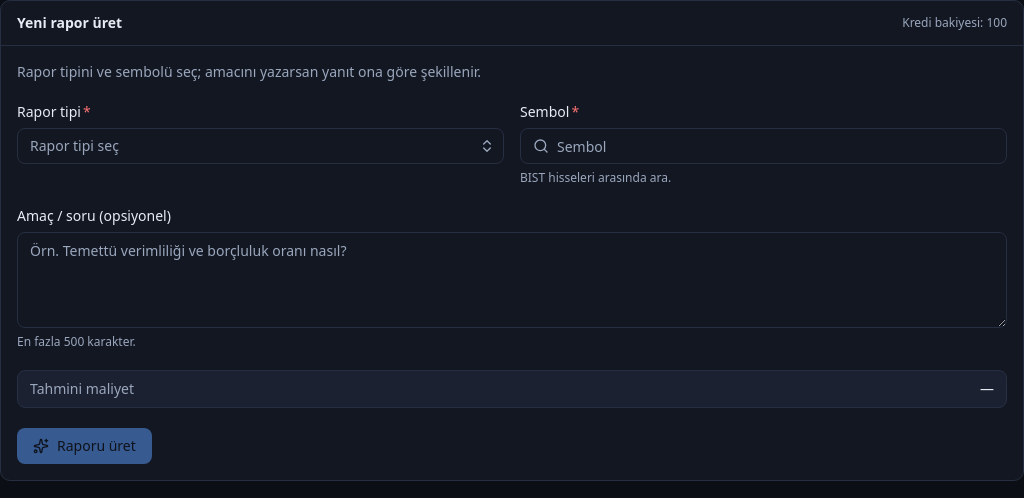
it: ReportWizard — maliyet ve kredi (U-03) › tip seçilince tahmini maliyeti gösterir
The width and height of the screenshot is (1024, 498).
Expected: the text with test id "estimated-cost" reads "—", [980,379,994,398]
Click the dropdown labelled "Rapor tipi" at coordinates (74, 146), box [17,128,504,164]
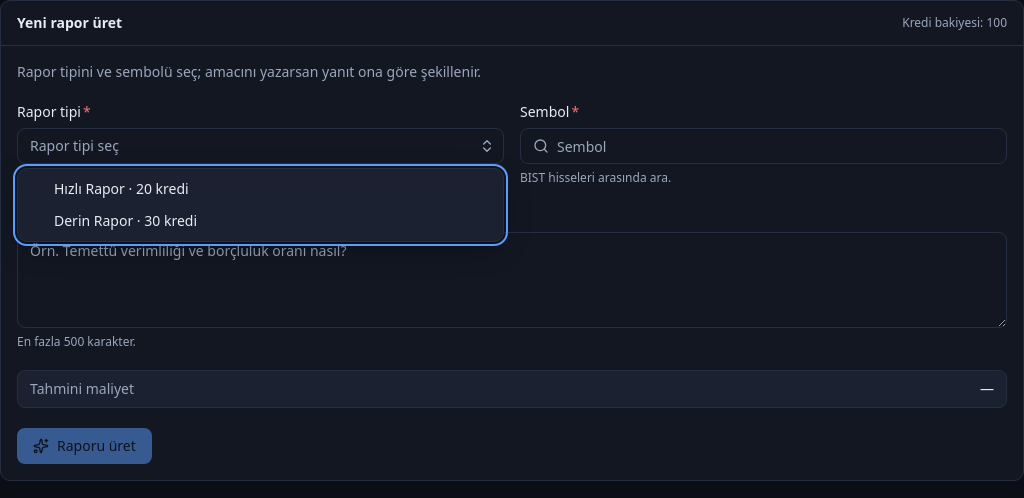
Click the option "Derin Rapor · 30 kredi" at coordinates (126, 220), box [54,211,197,230]
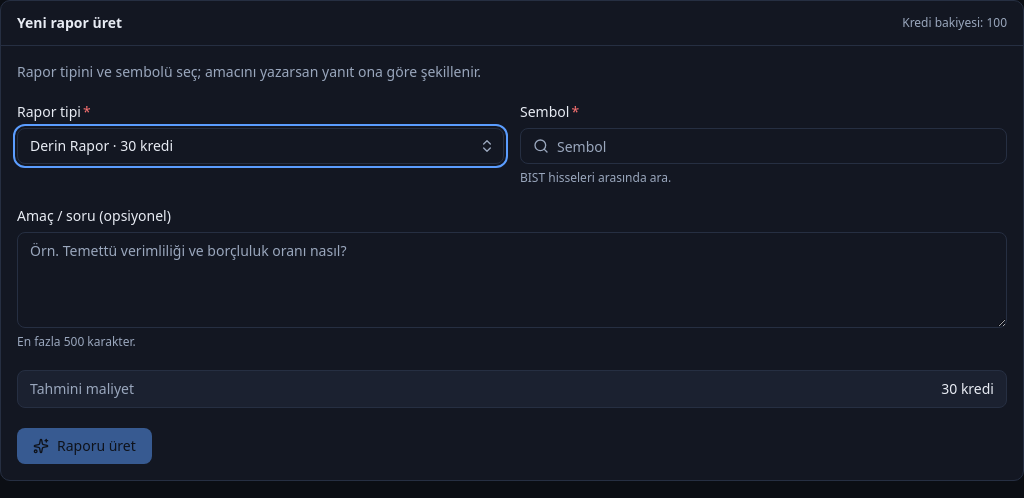
Expected: the text with test id "estimated-cost" reads "30 kredi", [941,379,994,398]
